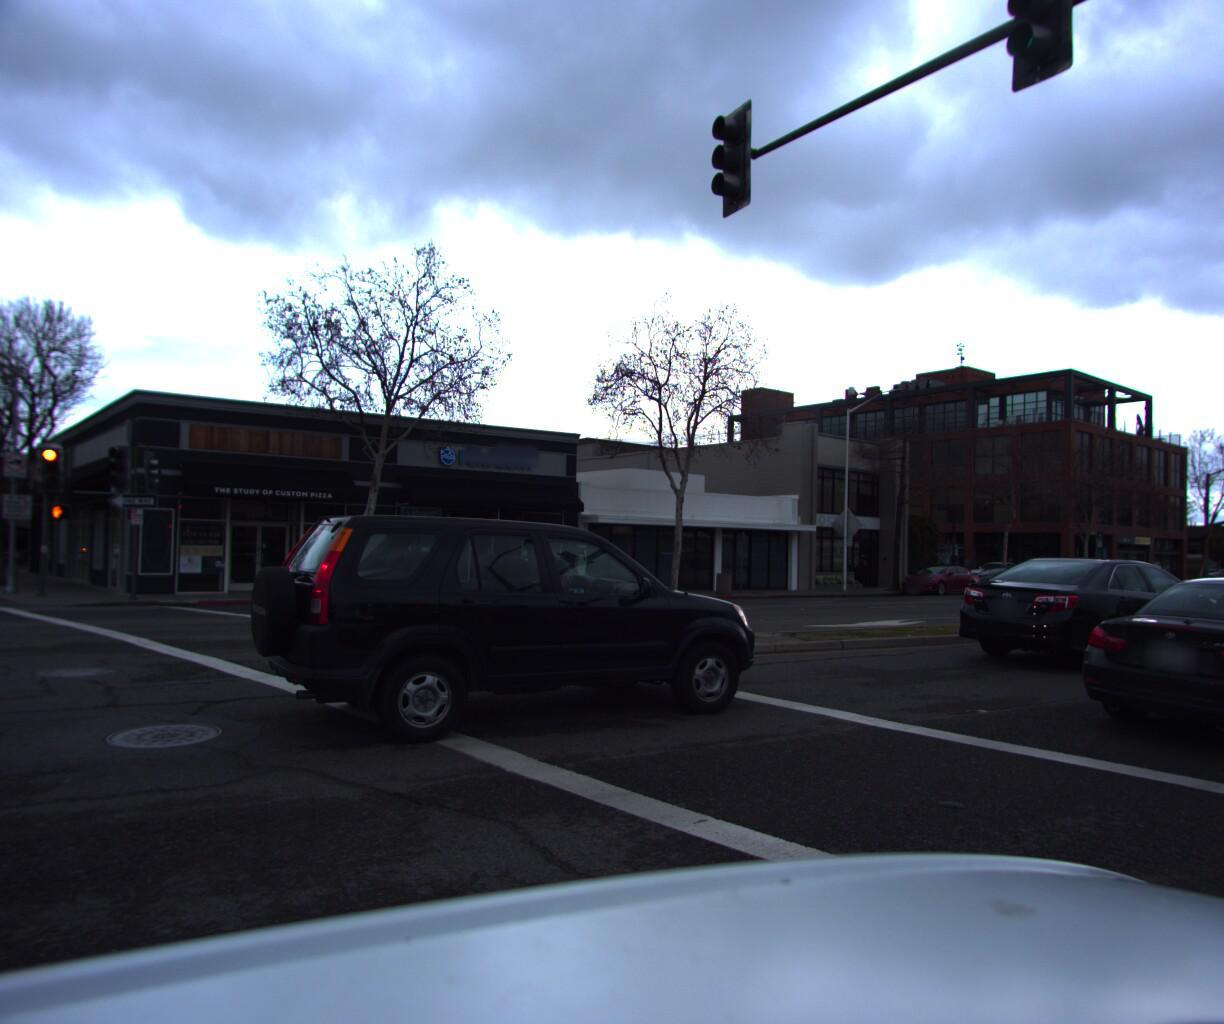car: (182, 497, 767, 772), (1030, 562, 1224, 791), (940, 547, 1224, 679), (889, 558, 984, 594), (0, 536, 88, 564), (956, 558, 1034, 590), (959, 554, 1025, 578)
